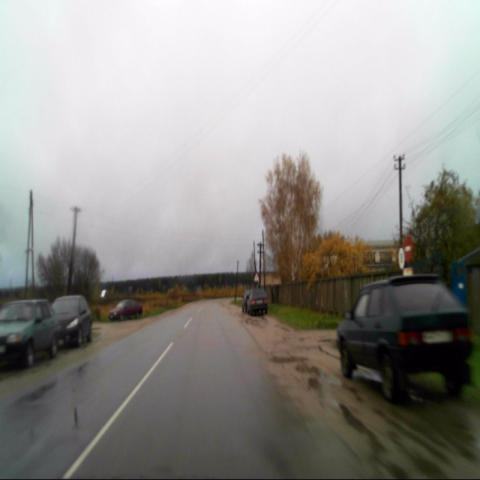3_1: (402, 234, 414, 262)
